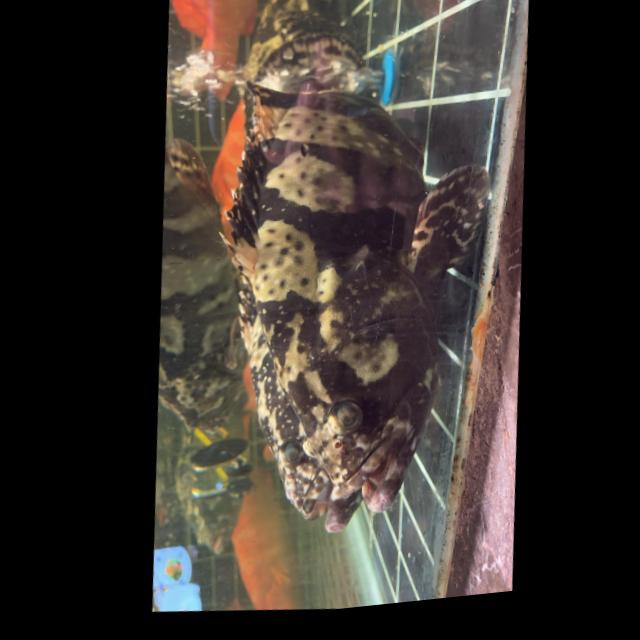Groupers: (181, 33, 524, 560)
